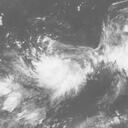cyclone: (32, 47, 85, 94)
